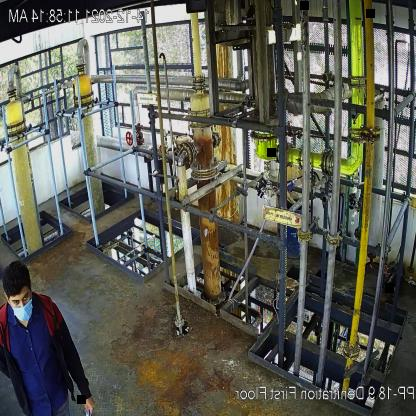no_goggles: (7, 290, 31, 307)
